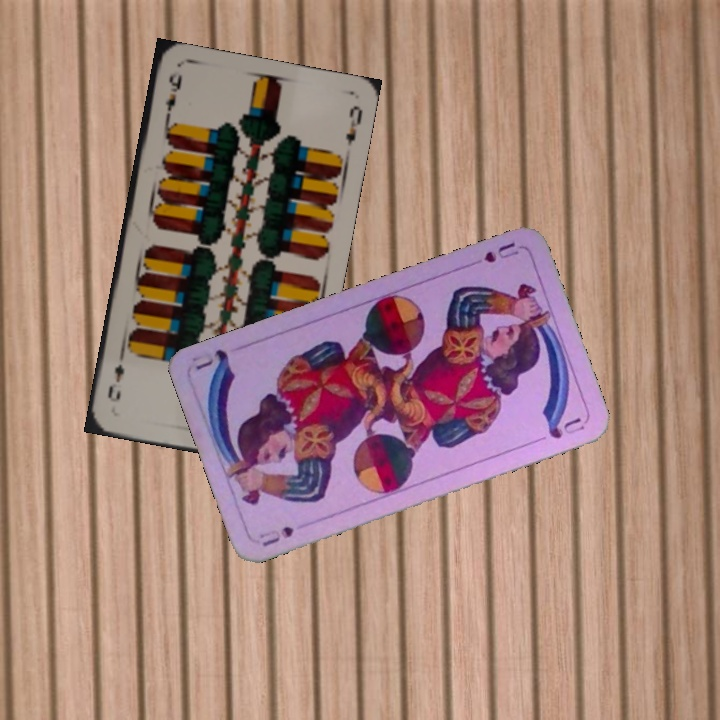E9: (161, 67, 185, 126)
SU: (479, 238, 521, 266), (255, 522, 296, 549)
